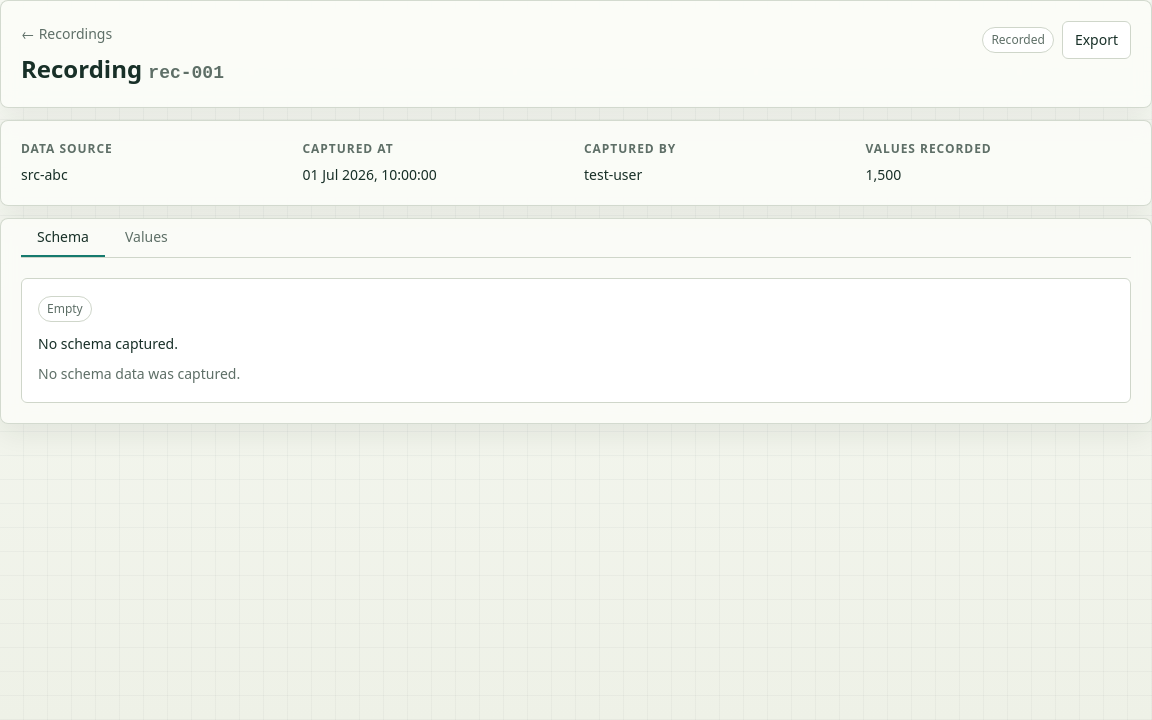
it: RecordingDetailPage — values tab (UI-119) › loads second page when Load more is clicked
Click the button "Values" at (146, 238), box [109,219,184,257]
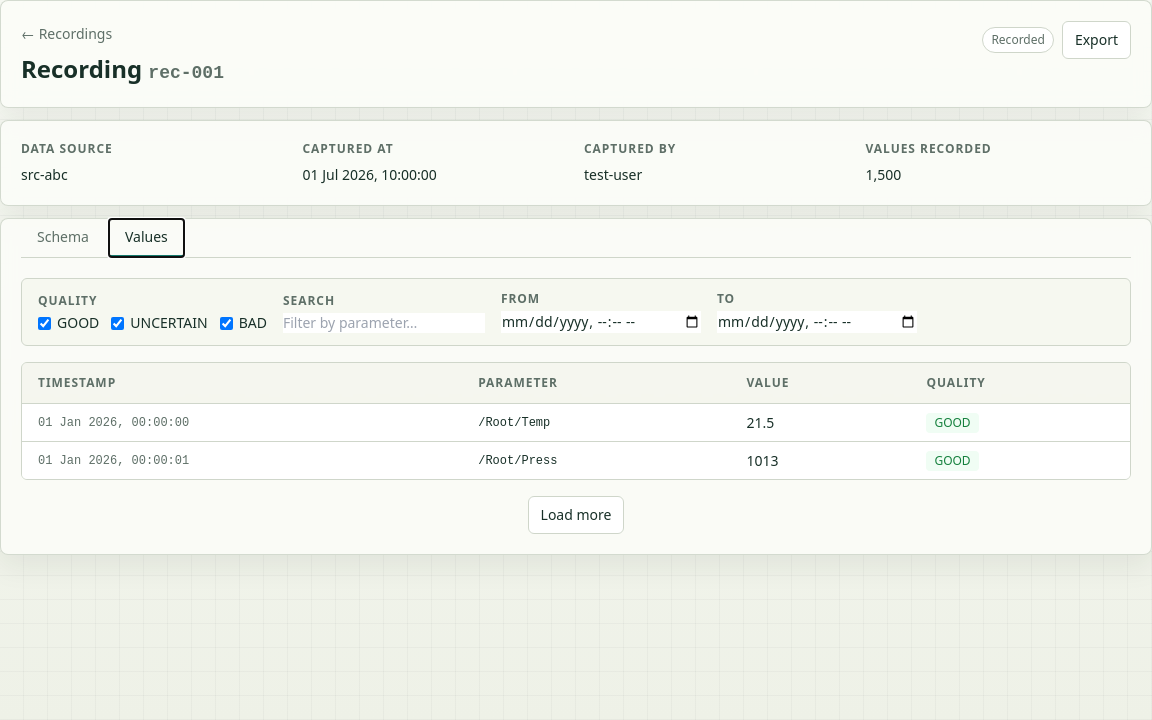
Expected: the button "Load more" is shown
Click the button "Load more" at (576, 515), box [528,496,624,534]
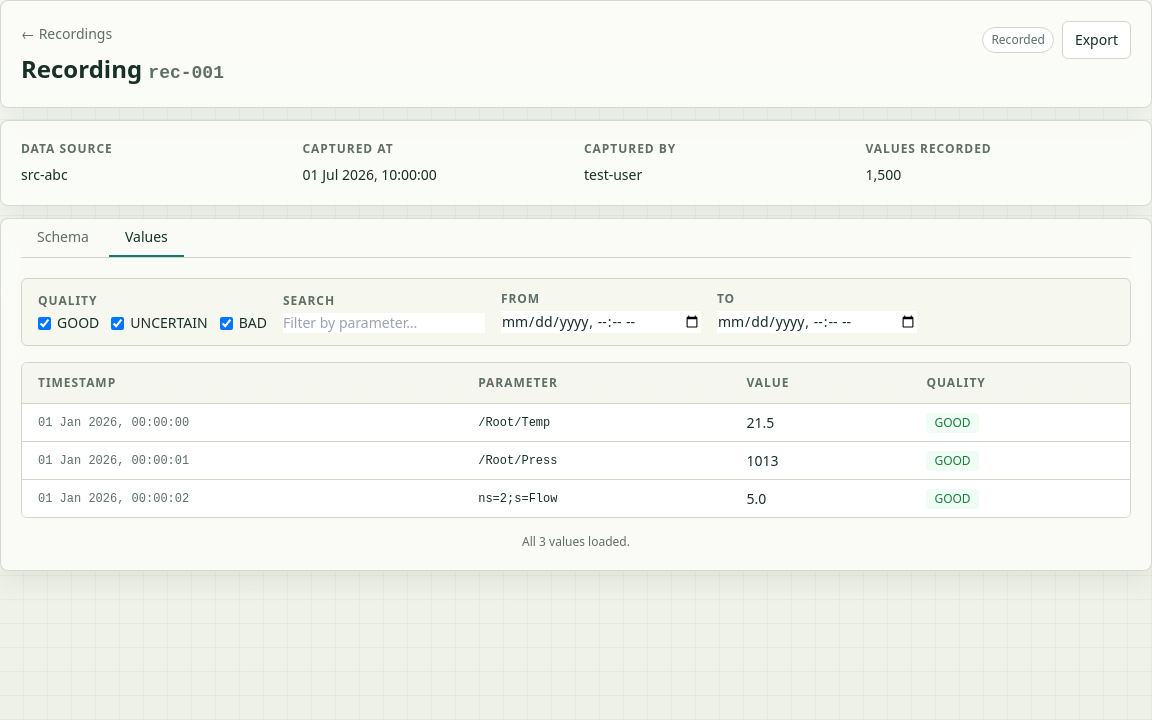
Expected: the text "ns=2;s=Flow" is shown, [462,480,730,517]
Expected: the button "Load more" is gone
